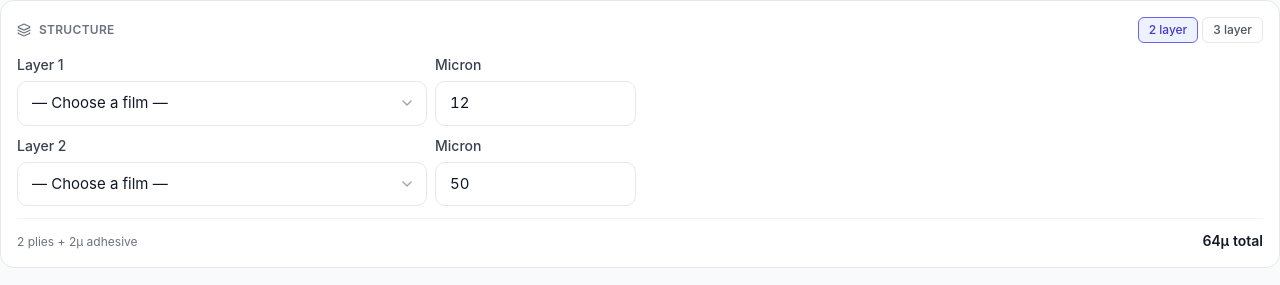
Scenario: LayerFields › fills the rate box with the film’s own rate, and names it as the list
Select "PET" in the dropdown labelled "Layer 1" at x=222, y=103, box [17,81,427,126]
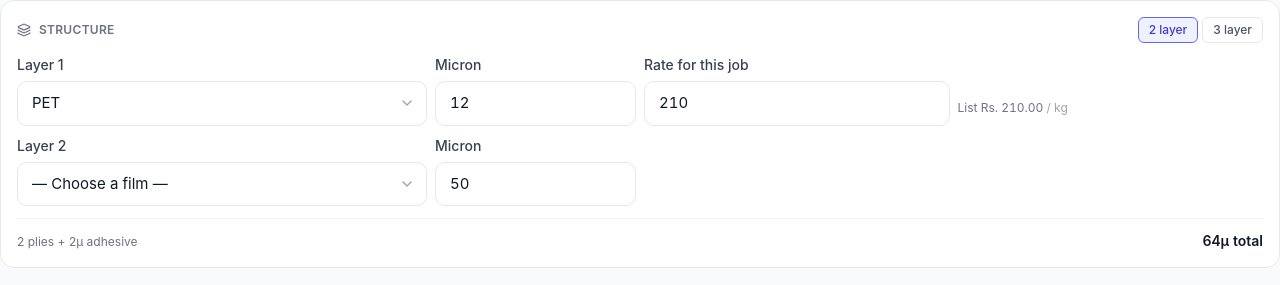
Check: the text "List Rs. 210.00" is shown, box [958,100,1068,114]
